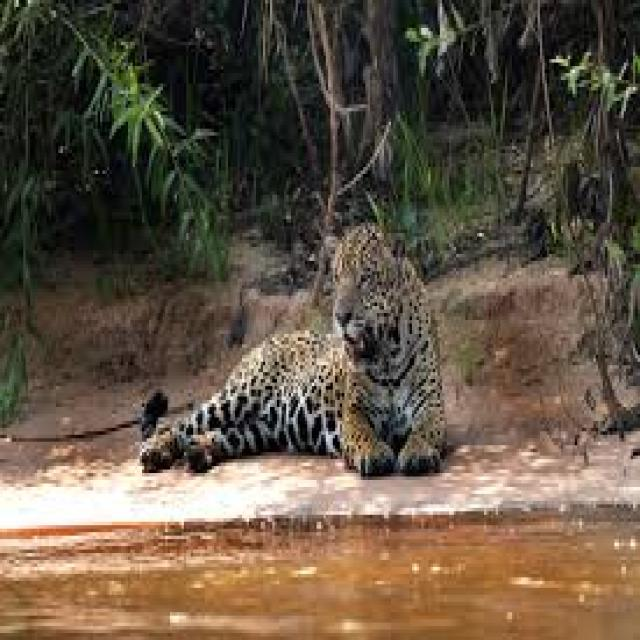Jaguar: (132, 222, 452, 483)
